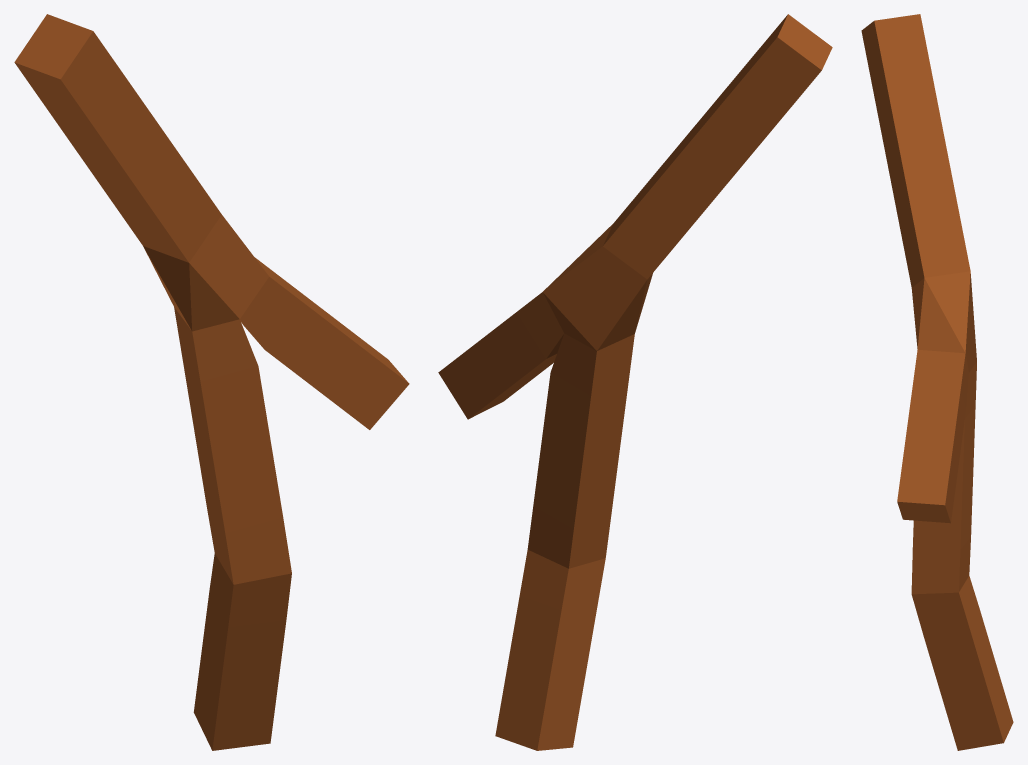
Rendered from stick.glb.
3 views of the same model, side by side, from view 1: azimuth 30°, elevation 25°; view 2: azimuth 150°, elevation 25°; view 3: azimuth 270°, elevation 25° (orthographic). The views are drawn at different scales.
Parts seen in each view (by area): view 1: Stick; view 2: Stick; view 3: Stick.
Part boxes in pixels (x1,y1,x2,y2): Stick: (14,14,409,750); Stick: (438,14,832,750); Stick: (861,14,1013,750).
Size of the model in its own units: 0.7348 by 1.42 by 0.3063.
